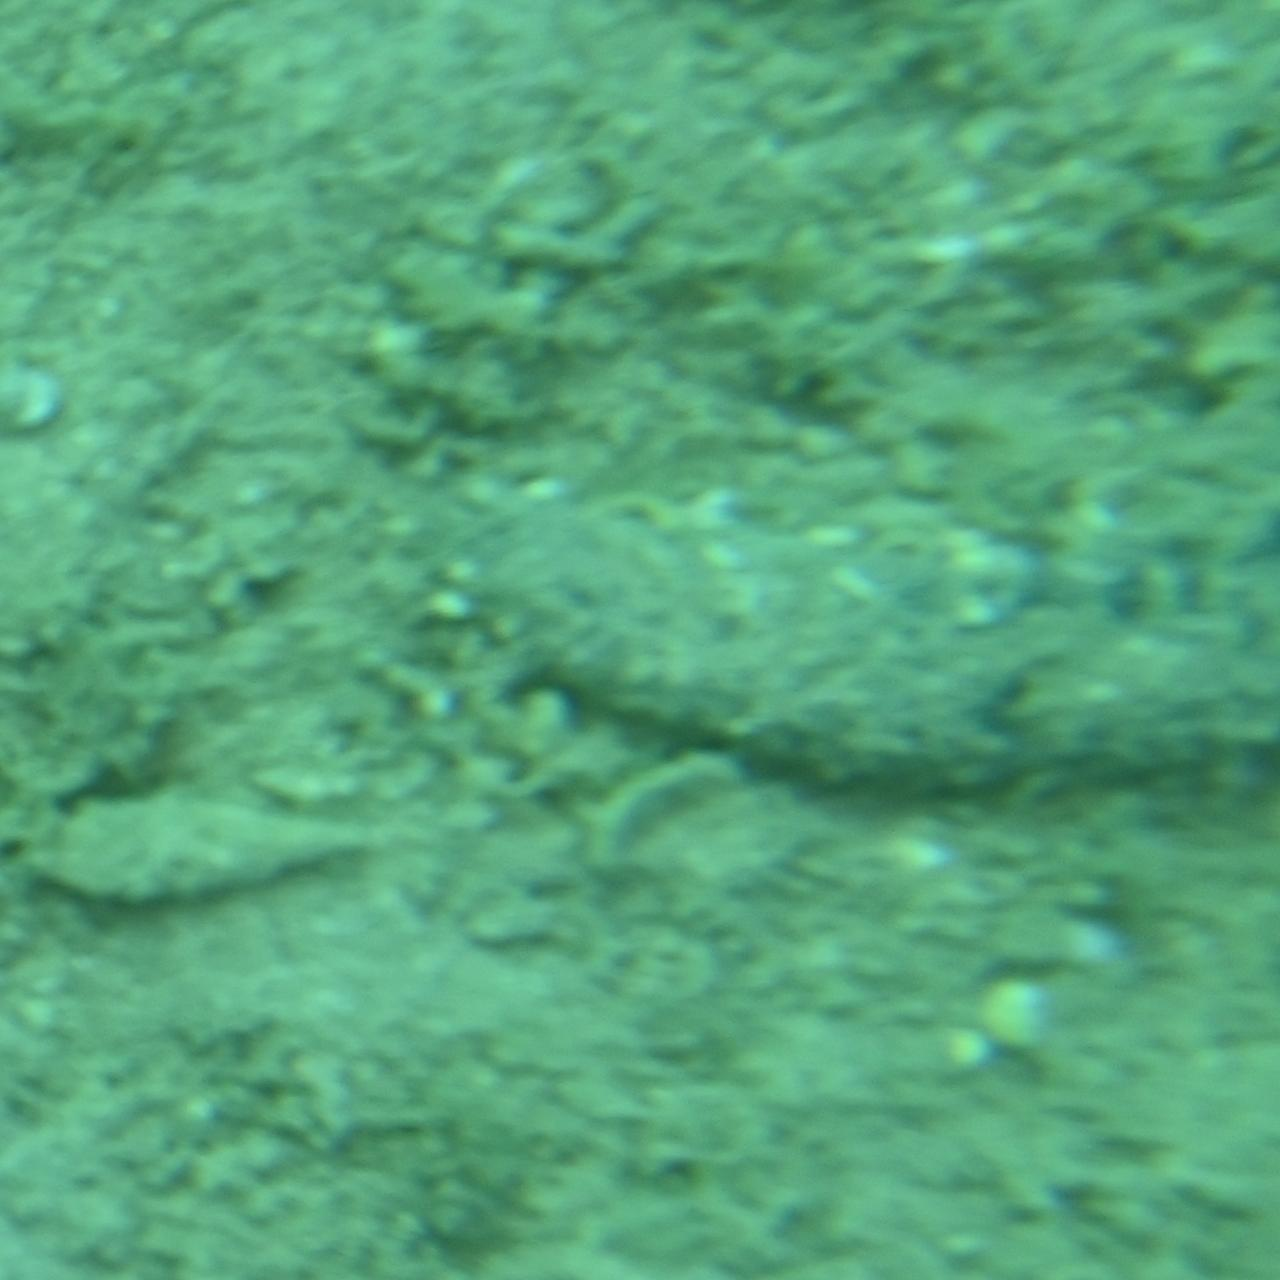Holothuria tubulosa: (451, 463, 1276, 817)
